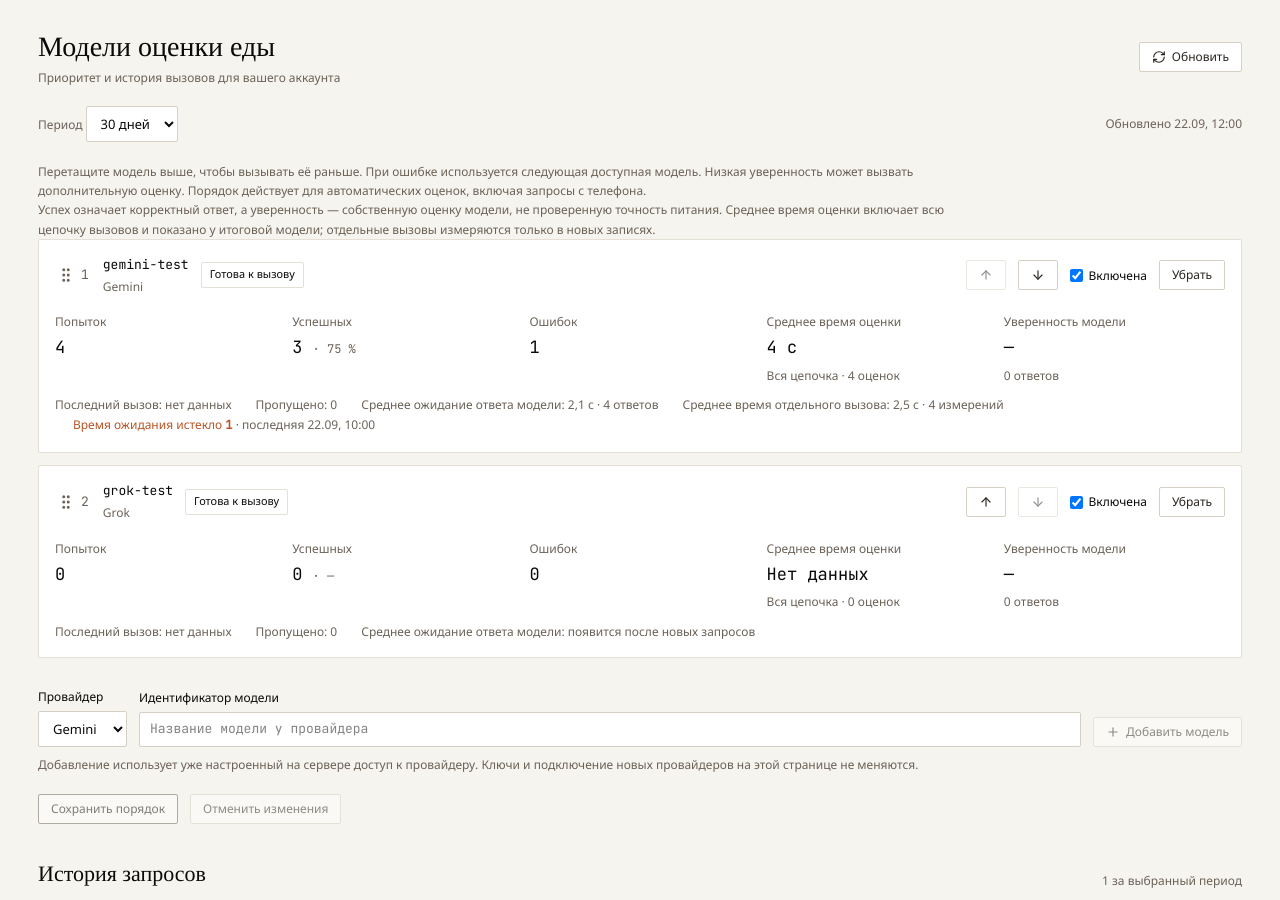
Scenario: model management › failed save keeps the draft and displays the failure
Expected: the element named "Gemini gemini-test" is shown, [38,239,1242,453]
Click the button named "Поднять grok-test": point(986, 502) [966,487,1006,517]
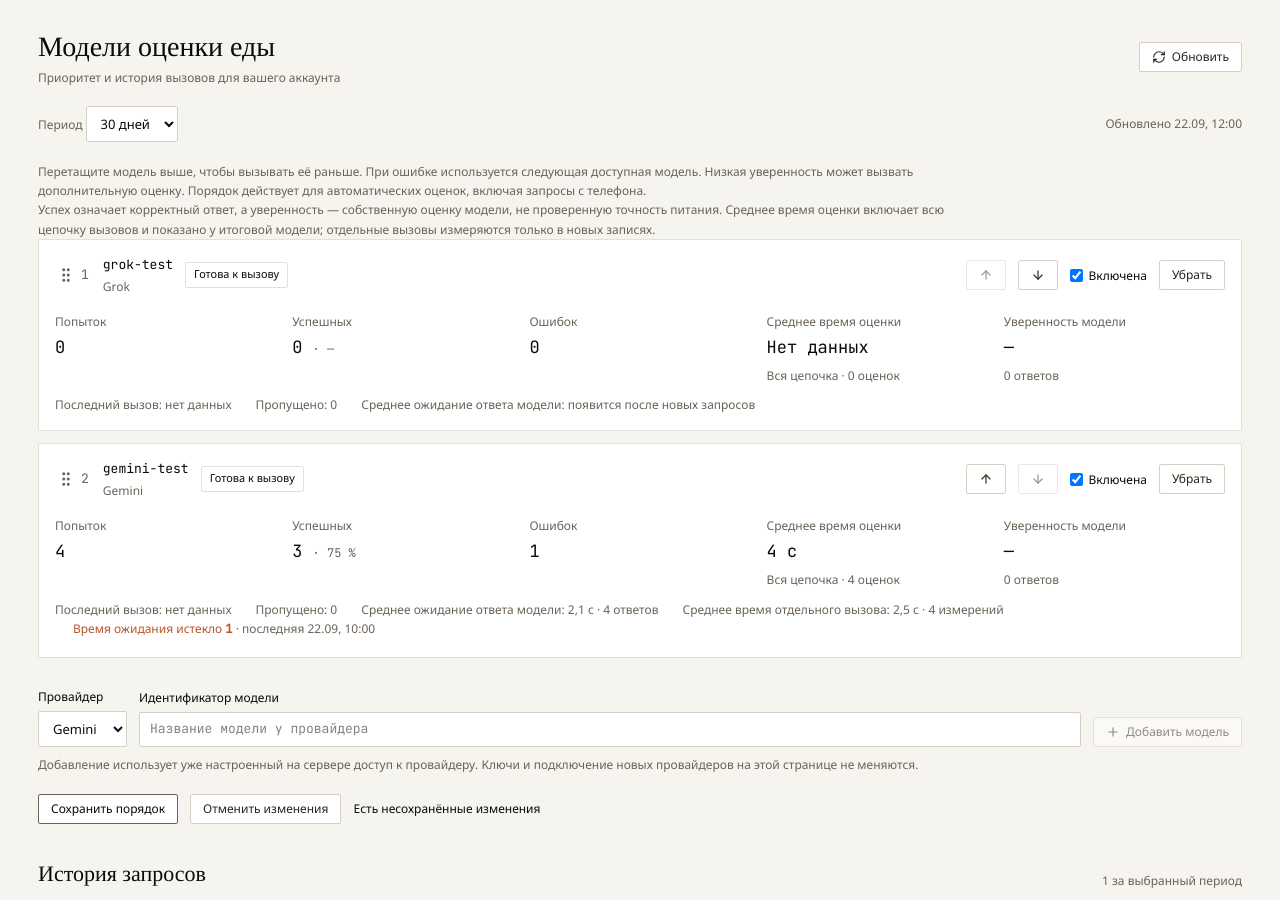
Click the button "Сохранить порядок": point(108, 809) [38,794,178,824]
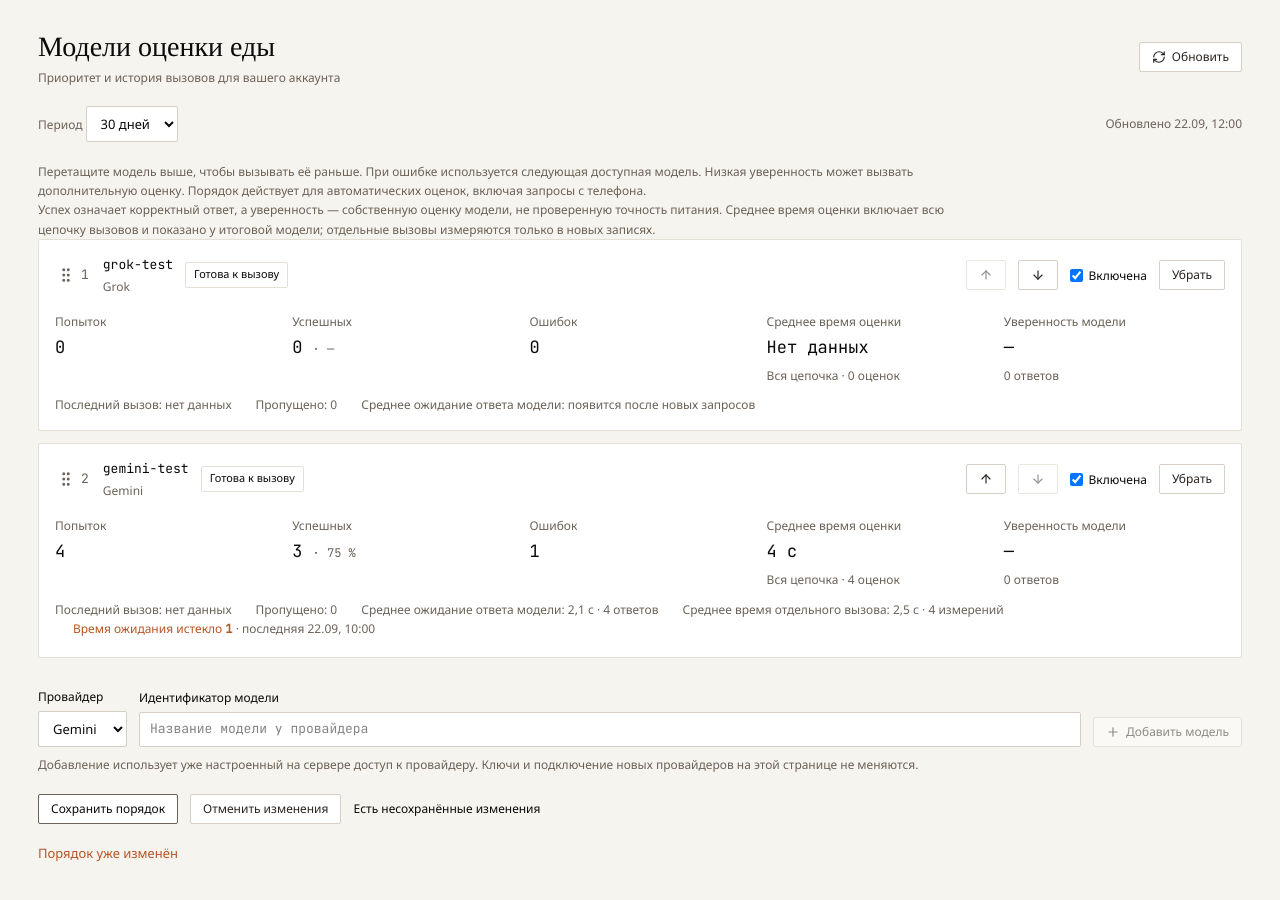
Result: the text "Есть несохранённые изменения" is shown at [354,800,540,818]
Result: the message reads "Порядок уже изменён" at [38,844,178,862]
Click the button "Отменить изменения": point(266, 809) [190,794,342,824]
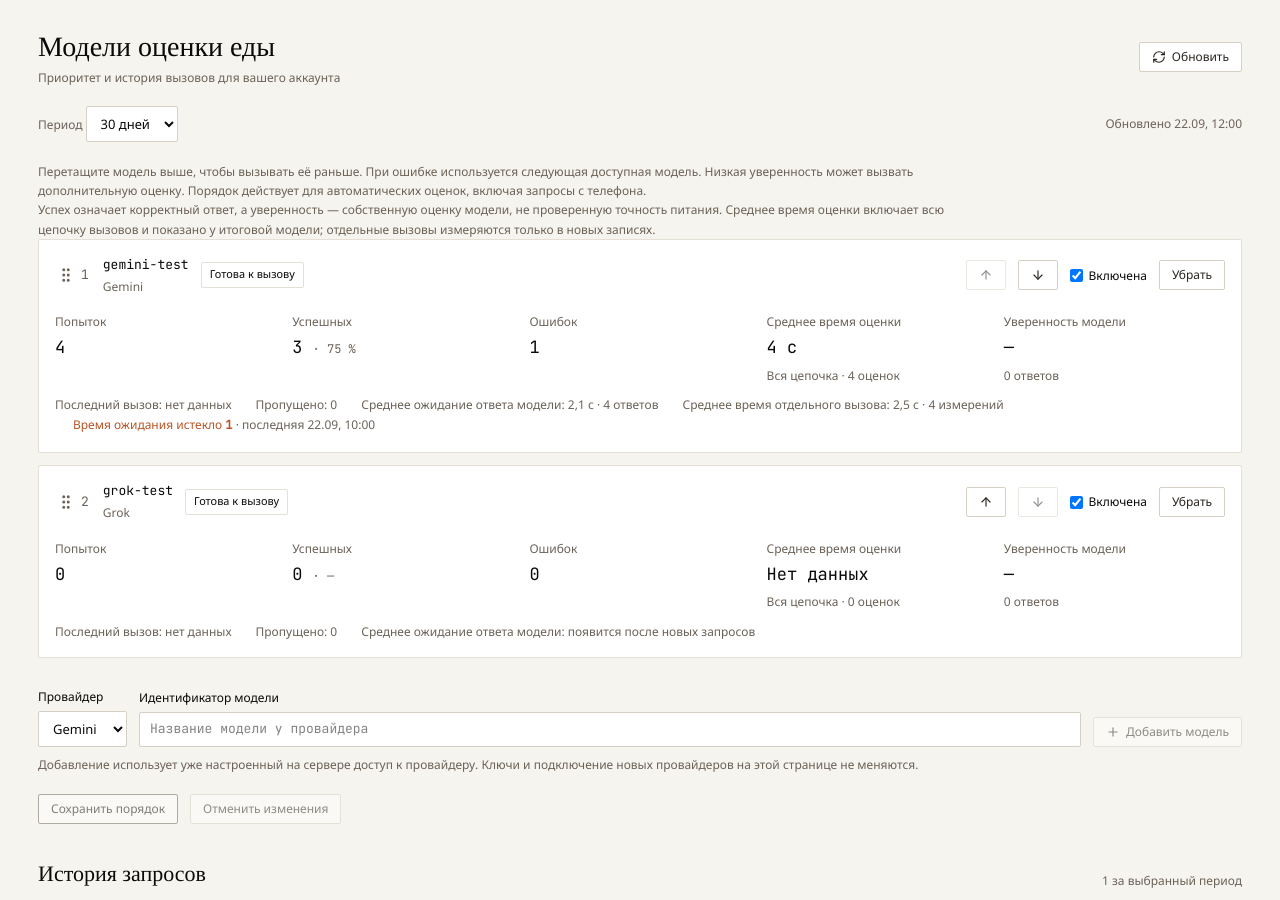
Result: the button "Сохранить порядок" is disabled at [38,794,178,824]
